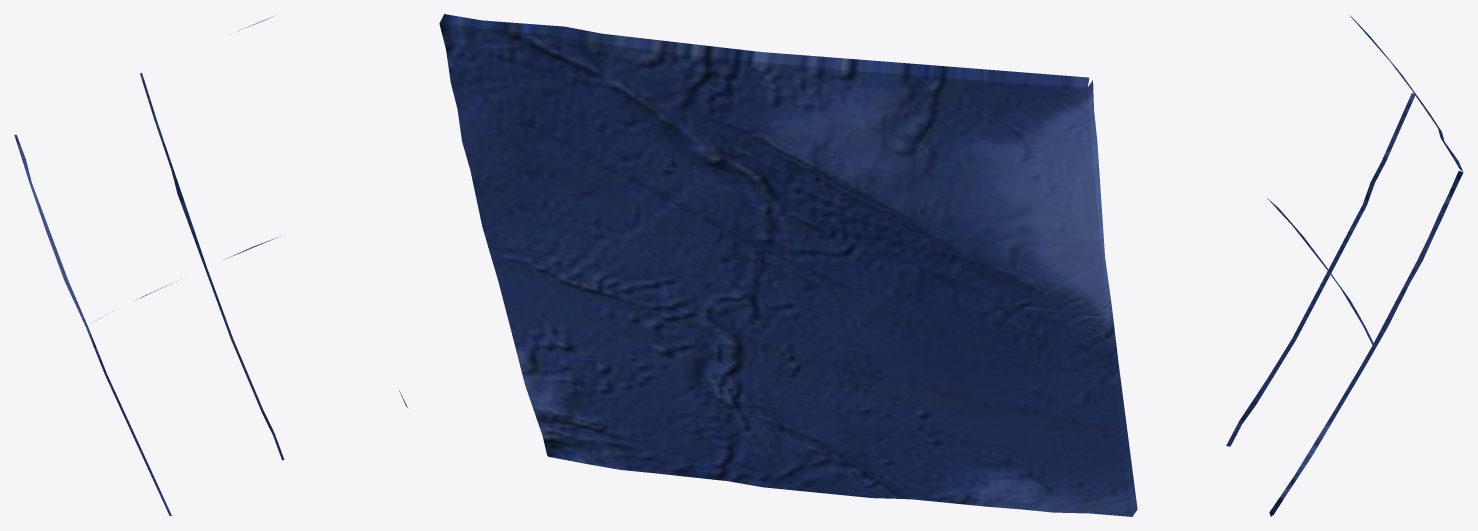
3 views of the same model, side by side, from view 1: azimuth 30°, elevation 25°; view 2: azimuth 150°, elevation 25°; view 3: azimuth 270°, elevation 25° (orthographic). The views are drawn at different scales.
Size of the model in its own units: 1231872 by 1116674 by 900730.
1 material, 1 textured.
